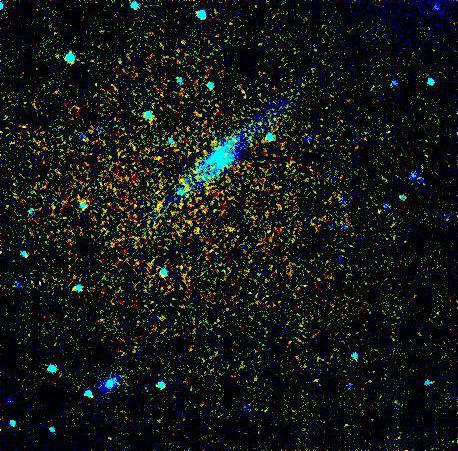star: (144, 191, 174, 221)
